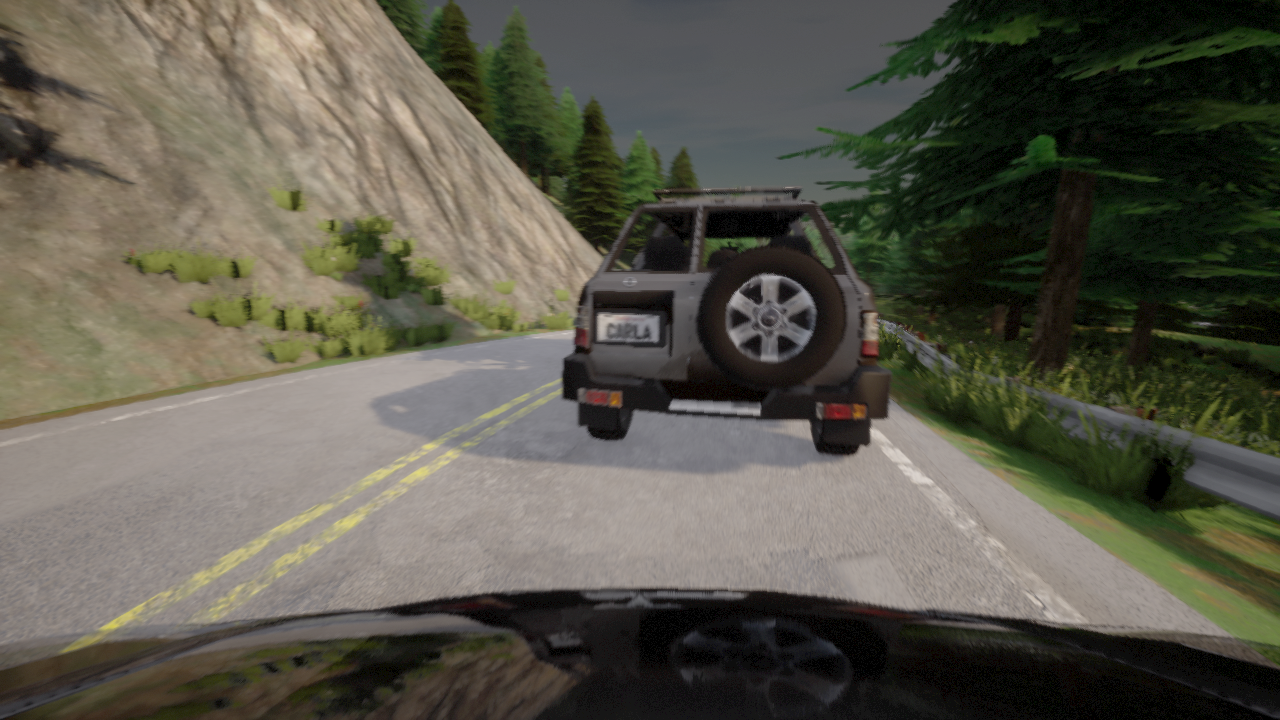cyclist: (0, 588, 1279, 719), (562, 186, 891, 456)
